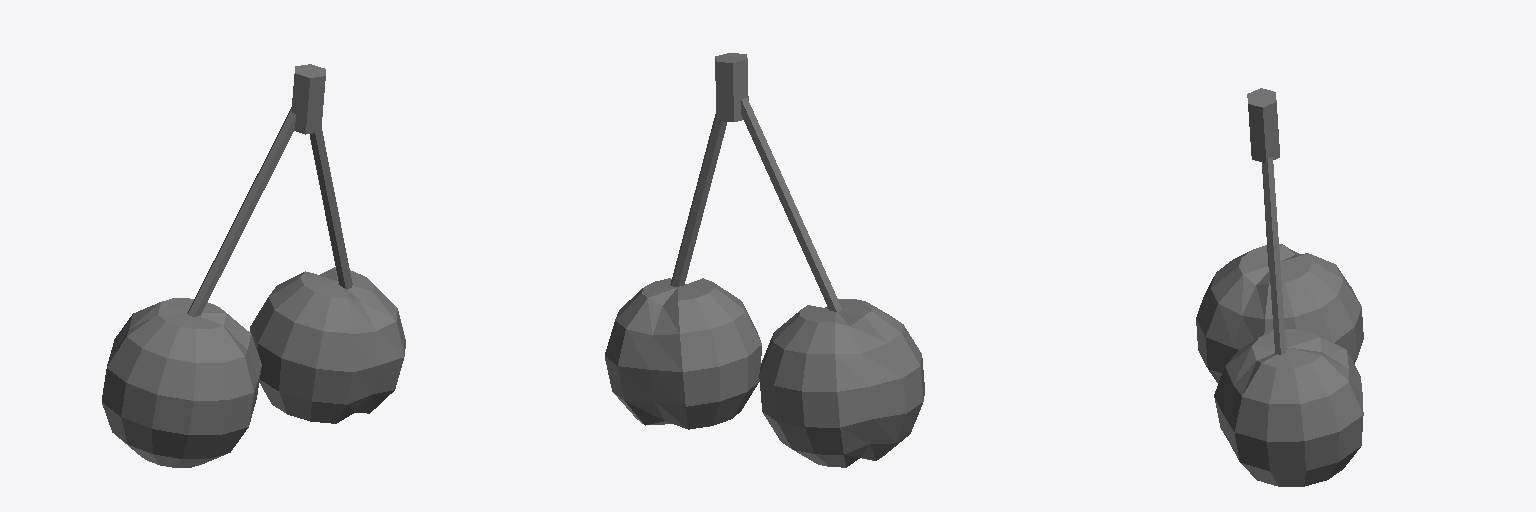
File: cherry.obj
3 views of the same model, side by side, from view 1: azimuth 30°, elevation 25°; view 2: azimuth 150°, elevation 25°; view 3: azimuth 270°, elevation 25° (orthographic).
Parts seen in each view (by area): view 1: Sphere003; view 2: Sphere003; view 3: Sphere003.
Part boxes in pixels (left/top/right/bottom): Sphere003: left=102, top=64, right=405, bottom=467; Sphere003: left=605, top=53, right=924, bottom=467; Sphere003: left=1196, top=88, right=1363, bottom=486.
Size of the model in its own units: 727 by 866 by 361.